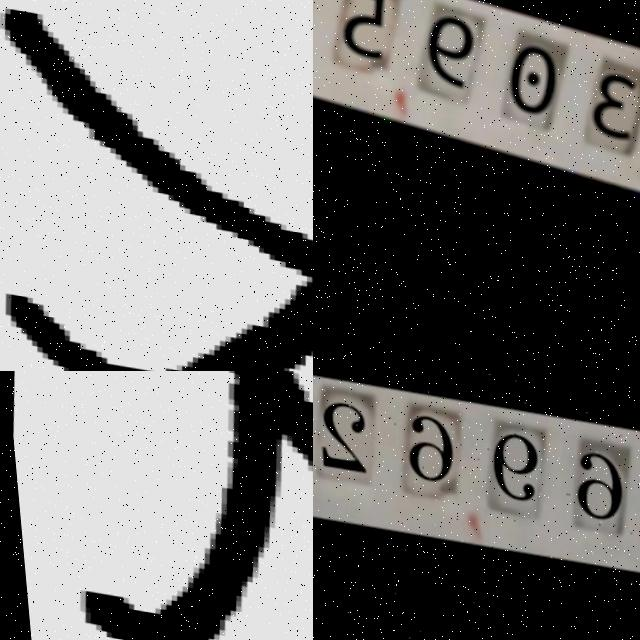0: (488, 21, 572, 127)
2: (313, 374, 392, 490)
3: (575, 48, 640, 146)
5: (324, 0, 406, 71)
6: (379, 387, 479, 503), (544, 420, 640, 539)
9: (462, 404, 562, 519), (406, 0, 488, 96)
K: (0, 2, 313, 371)
U: (38, 371, 313, 640)
